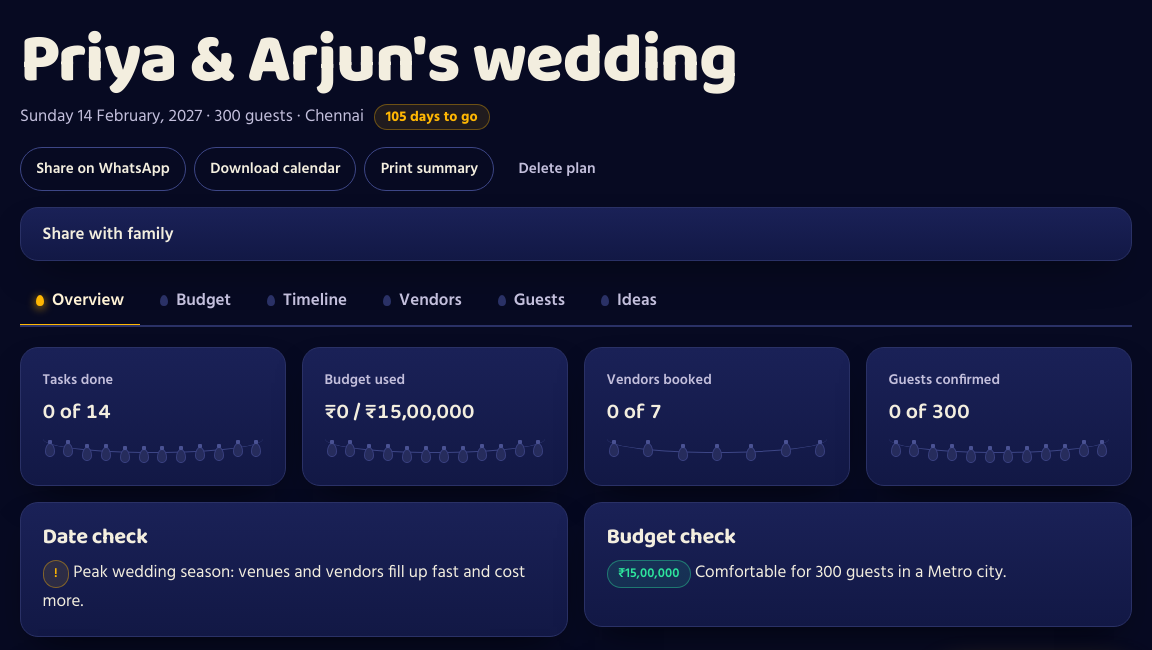
Test: Ideas tab › fetches fresh ideas with sources and saves one to the plan
Click the tab "Ideas".
click(629, 302)  # box [585,278,673,327]
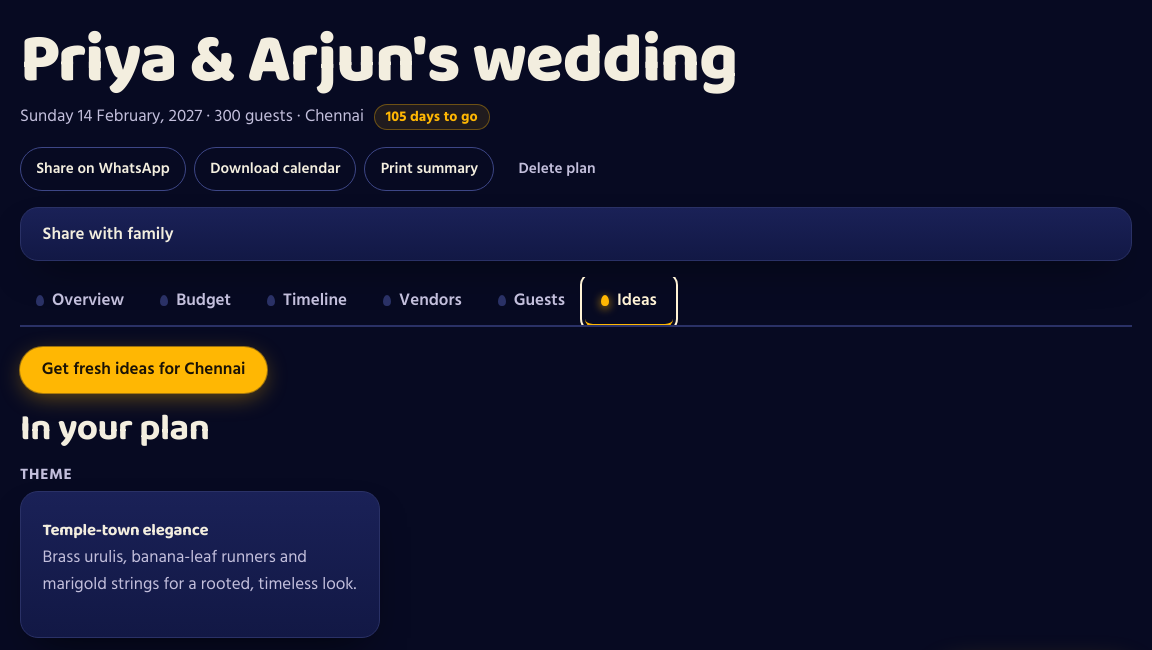
Click the button "Get fresh ideas for Chennai".
click(144, 370)  # box [20,347,267,393]
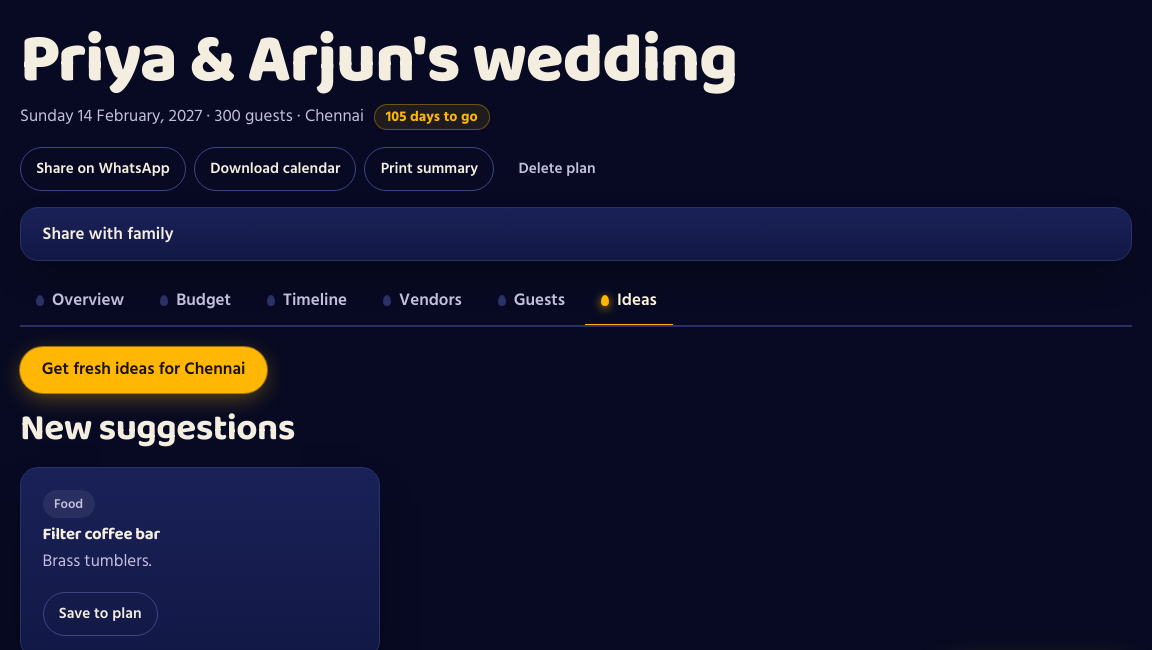
Now the heading "New suggestions" is shown, box [20,399,295,458]
Click the button "Save to plan".
click(100, 614)  # box [43,592,158,636]
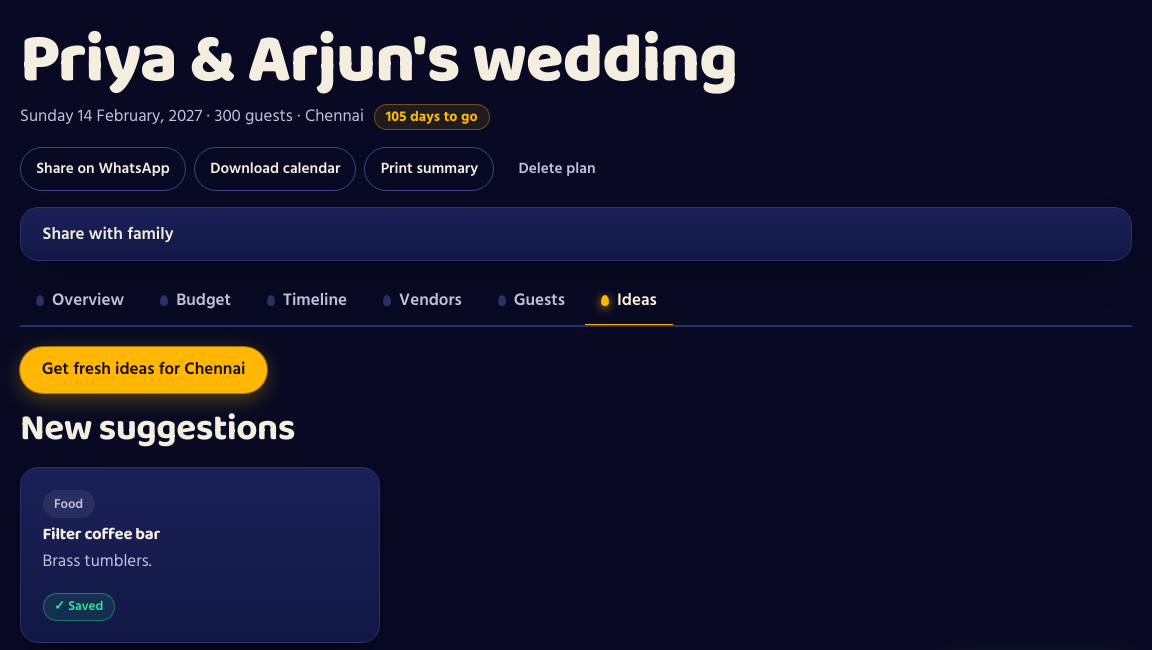
Now the text "✓ Saved" is shown, box [43,593,115,621]
